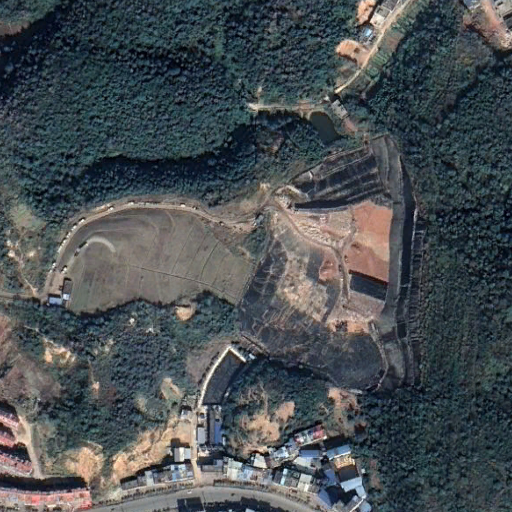lf: (237, 135, 424, 399)
